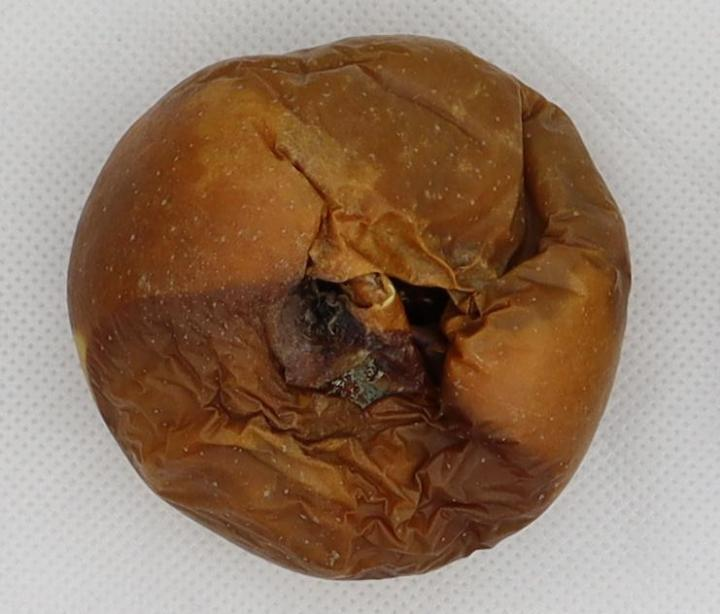apple: (69, 36, 630, 578)
rot_mold_decay: (69, 36, 630, 578)
